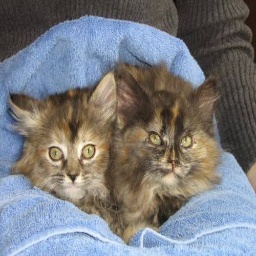cat: (4, 59, 235, 232)
